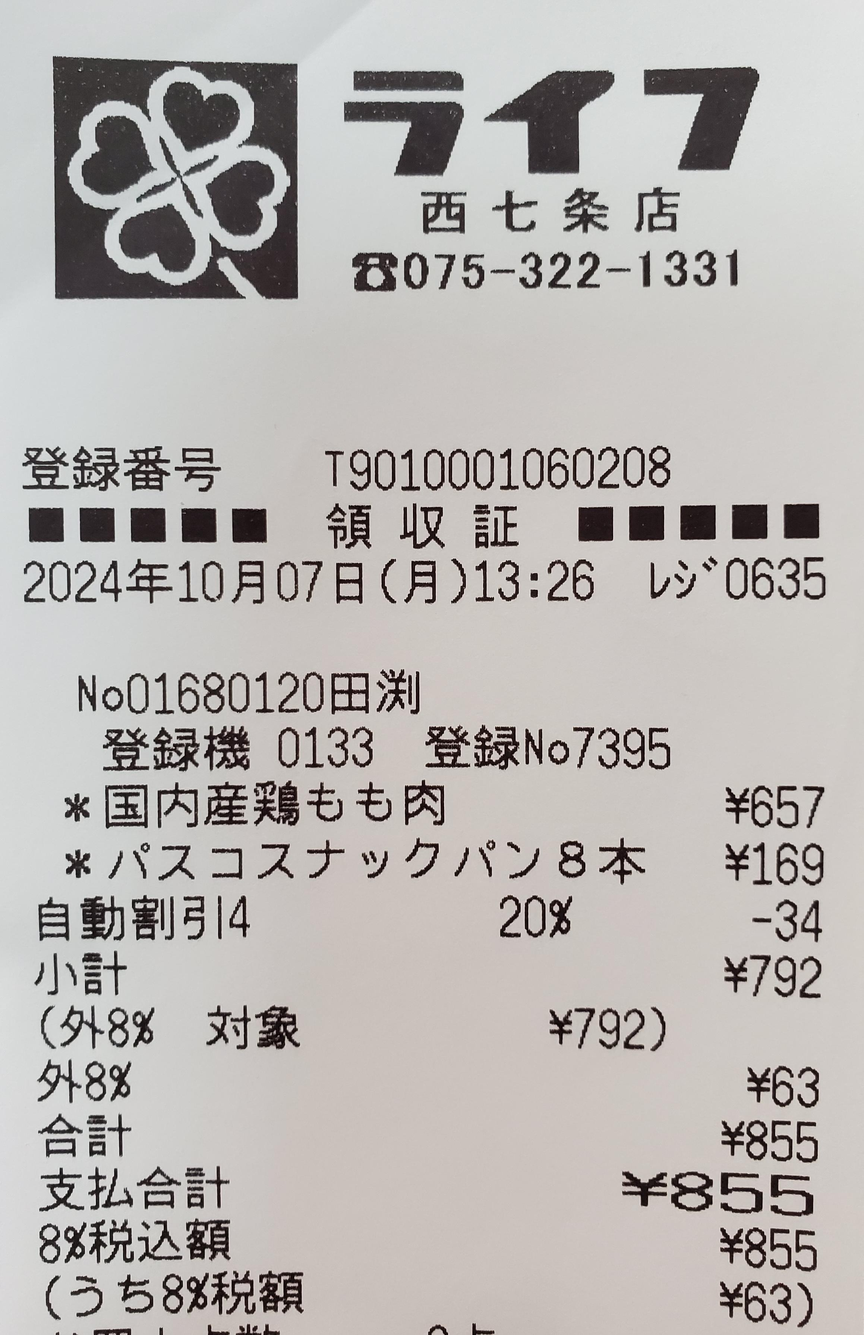TEL: (399, 235, 766, 307)
date: (24, 544, 473, 623)
total: (615, 1154, 823, 1227)
